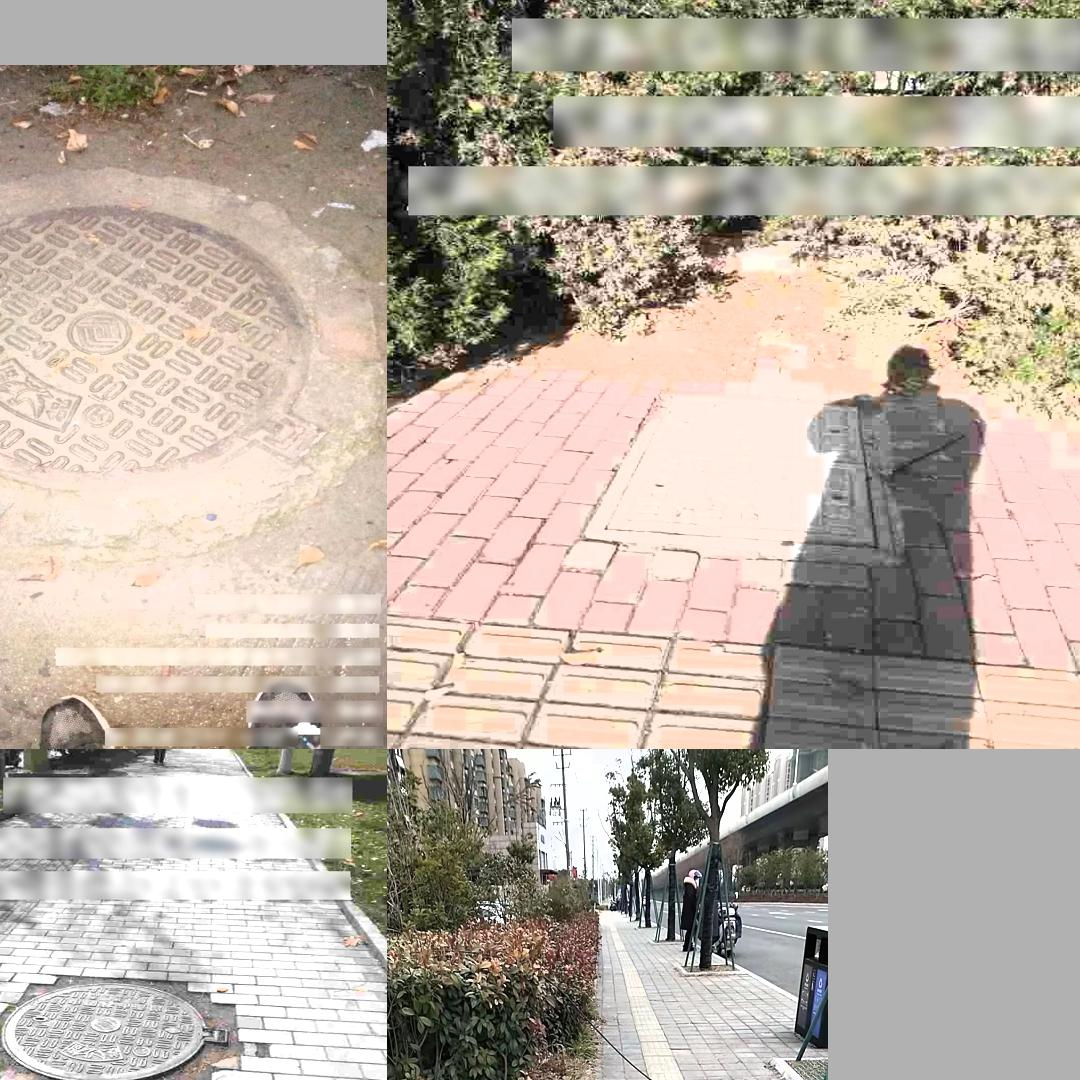good: (0, 175, 363, 538), (582, 388, 892, 561), (0, 982, 229, 1080)
